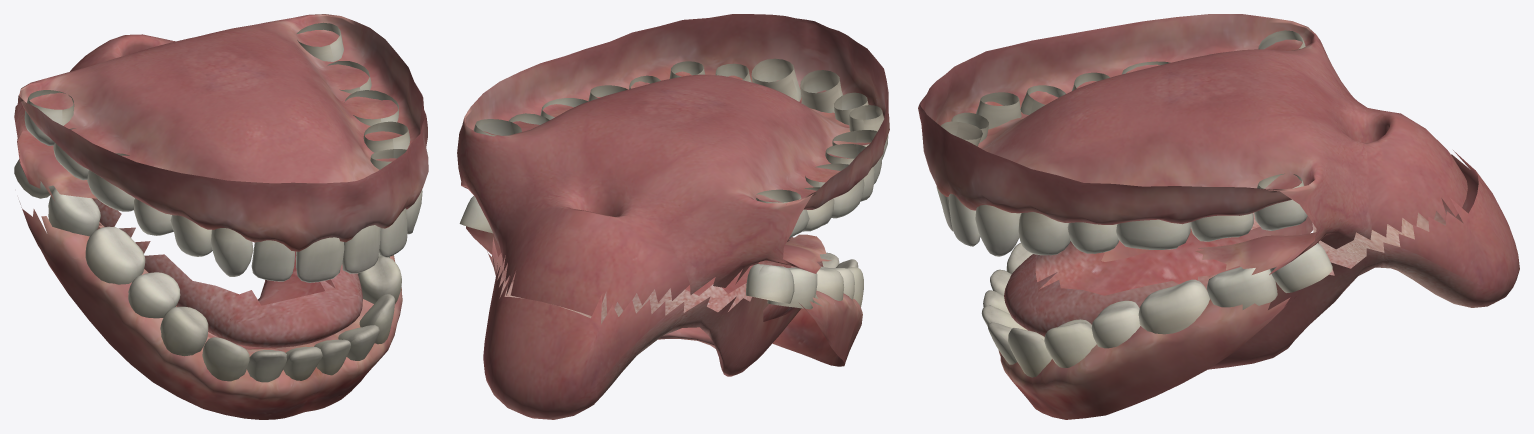
The model's file is dental-arch-separated.glb.
3 views of the same model, side by side, from view 1: azimuth 30°, elevation 25°; view 2: azimuth 150°, elevation 25°; view 3: azimuth 270°, elevation 25° (orthographic). The views are drawn at different scales.
Visible parts, largest first — view 1: Gums_Upper, Gums_Lower, Tooth_36, Tooth_34, Tooth_35, Tooth_37, Tooth_21, Tooth_33, Tooth_23, Tooth_22, Tooth_44, Tooth_11 (+16 smaller); view 2: Gums_Upper, Gums_Lower, Tooth_38, Tooth_21, Tooth_11, Tooth_37, Tooth_26, Tooth_25, Tooth_23, Tooth_36, Tooth_28, Tooth_22 (+6 smaller); view 3: Gums_Upper, Gums_Lower, Tooth_46, Tooth_47, Tooth_16, Tooth_44, Tooth_14, Tooth_13, Tooth_45, Tooth_48, Tooth_43, Tooth_18 (+8 smaller).
Part boxes in pixels (x1=…): Gums_Upper: x1=14, y1=14, x2=428, y2=251; Gums_Lower: x1=19, y1=198, x2=402, y2=419; Tooth_36: x1=85, y1=226, x2=145, y2=284; Tooth_34: x1=160, y1=306, x2=208, y2=356; Tooth_35: x1=128, y1=272, x2=180, y2=318; Tooth_37: x1=48, y1=188, x2=100, y2=236; Tooth_21: x1=296, y1=237, x2=344, y2=282; Tooth_33: x1=202, y1=337, x2=249, y2=381; Tooth_23: x1=211, y1=228, x2=253, y2=276; Tooth_22: x1=251, y1=240, x2=294, y2=281; Tooth_44: x1=358, y1=257, x2=401, y2=303; Tooth_11: x1=342, y1=225, x2=380, y2=273; Gums_Upper: x1=457, y1=14, x2=889, y2=316; Gums_Lower: x1=466, y1=226, x2=862, y2=419; Tooth_38: x1=746, y1=264, x2=794, y2=303; Tooth_21: x1=800, y1=70, x2=842, y2=112; Tooth_11: x1=751, y1=58, x2=801, y2=101; Tooth_37: x1=767, y1=267, x2=817, y2=309; Tooth_26: x1=805, y1=163, x2=864, y2=218; Tooth_25: x1=825, y1=144, x2=874, y2=201; Tooth_23: x1=849, y1=105, x2=888, y2=158; Tooth_36: x1=795, y1=267, x2=843, y2=306; Tooth_28: x1=756, y1=189, x2=809, y2=238; Tooth_22: x1=834, y1=92, x2=868, y2=124; Gums_Upper: x1=918, y1=14, x2=1467, y2=274; Gums_Lower: x1=998, y1=150, x2=1519, y2=419; Tooth_46: x1=1138, y1=279, x2=1209, y2=334; Tooth_47: x1=1207, y1=267, x2=1277, y2=309; Tooth_16: x1=1116, y1=219, x2=1190, y2=249; Tooth_44: x1=1044, y1=319, x2=1096, y2=367; Tooth_14: x1=1018, y1=212, x2=1070, y2=255; Tooth_13: x1=975, y1=205, x2=1021, y2=256; Tooth_45: x1=1091, y1=300, x2=1140, y2=348; Tooth_48: x1=1269, y1=243, x2=1332, y2=292; Tooth_43: x1=1008, y1=328, x2=1051, y2=377; Tooth_18: x1=1254, y1=173, x2=1307, y2=230.
Bounding box in the file's own units: 8.75 × 7.22 × 12.85.
2 materials, 2 textured.
